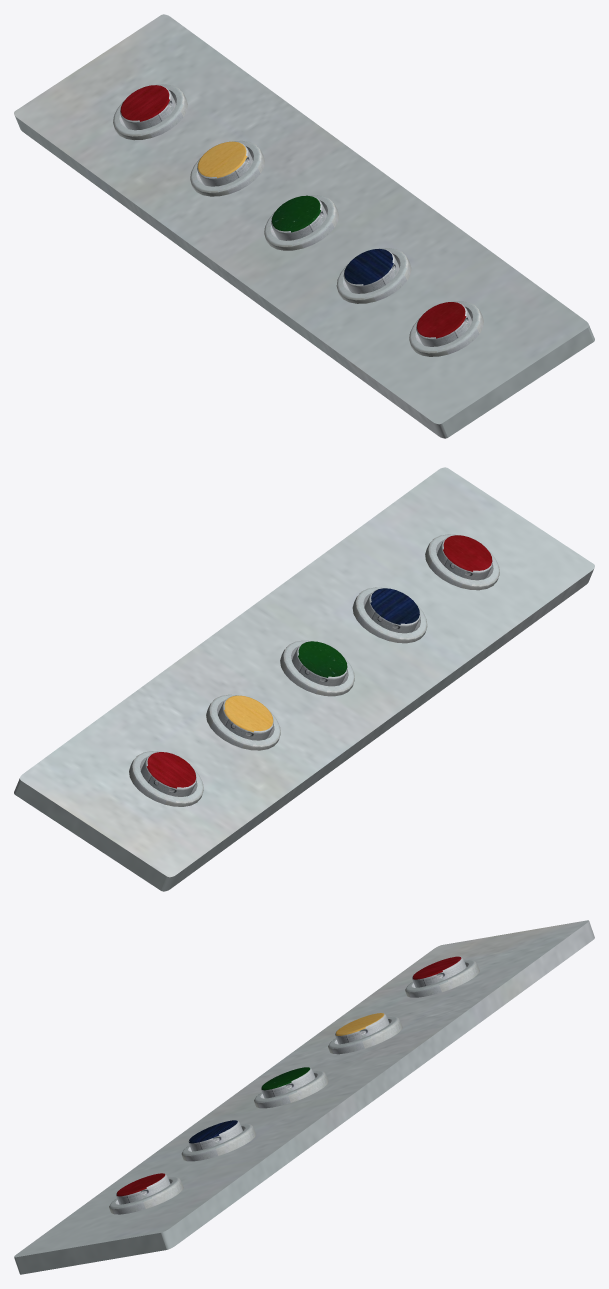
Rendered from bigbuttons.fbx.
3 renders of one model, top to bottom at view 1: azimuth 30°, elevation 25°; view 2: azimuth 150°, elevation 25°; view 3: azimuth 330°, elevation 25°, orthographic.
Visible parts, largest first — view 1: pCube152, pasted__pCylinder111, pasted__pCylinder120, pasted__pCylinder115, pasted__pCylinder118, pasted__pCylinder116; view 2: pCube152, pasted__pCylinder118, pasted__pCylinder111, pasted__pCylinder116, pasted__pCylinder115, pasted__pCylinder120; view 3: pCube152, pasted__pCylinder120, pasted__pCylinder118, pasted__pCylinder116, pasted__pCylinder115, pasted__pCylinder111.
Part boxes in pixels (box(x1,y1,x2,y2)): pCube152: box(14, 14, 594, 438); pasted__pCylinder111: box(190, 140, 264, 196); pasted__pCylinder120: box(113, 84, 187, 140); pasted__pCylinder115: box(336, 248, 411, 303); pasted__pCylinder118: box(264, 195, 338, 250); pasted__pCylinder116: box(409, 301, 483, 356); pCube152: box(14, 467, 594, 891); pasted__pCylinder118: box(280, 640, 354, 696); pasted__pCylinder111: box(206, 694, 280, 750); pasted__pCylinder116: box(425, 534, 499, 590); pasted__pCylinder115: box(352, 587, 427, 643); pasted__pCylinder120: box(129, 751, 203, 806); pCube152: box(14, 920, 594, 1274); pasted__pCylinder120: box(405, 956, 479, 997); pasted__pCylinder118: box(254, 1067, 328, 1108); pasted__pCylinder116: box(109, 1173, 183, 1214); pasted__pCylinder115: box(181, 1120, 256, 1161); pasted__pCylinder111: box(328, 1013, 402, 1054).
Bounding box in the file's own units: 12.04 × 5.72 × 55.86.
